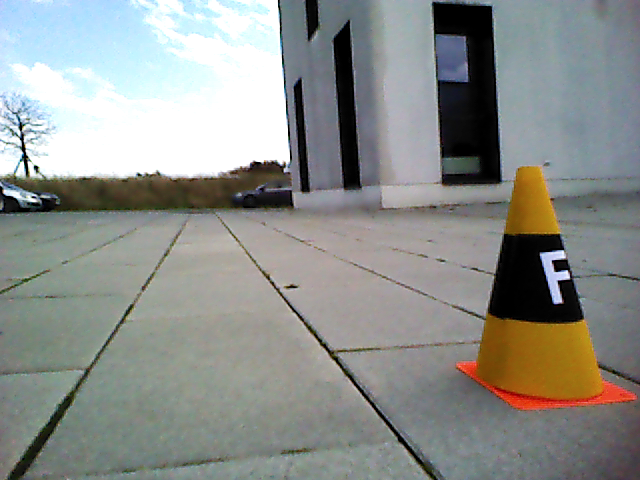yellowcone: (476, 163, 604, 401)
